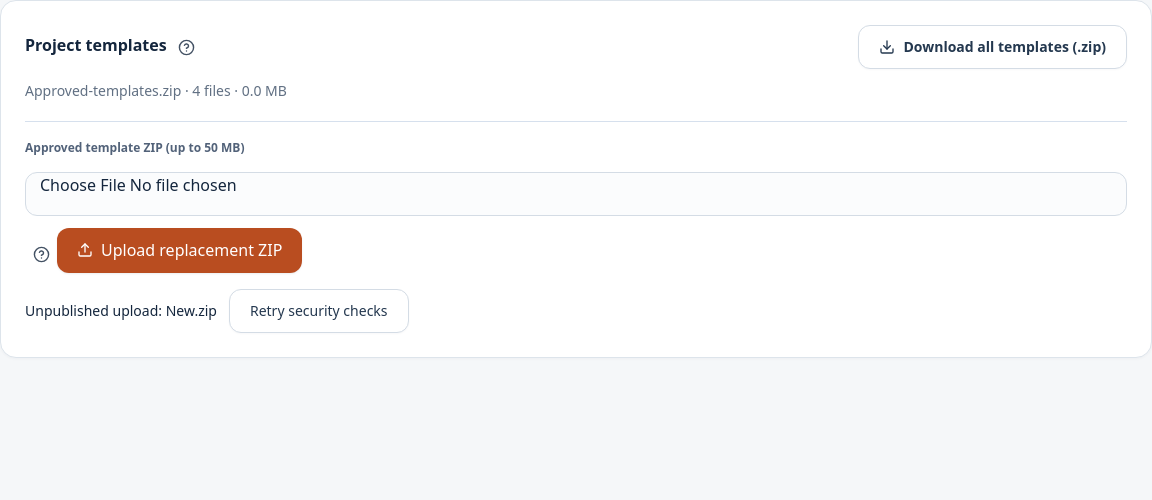
it: project template pack › does not overlap a read retry with publication security checks
Click the button "Retry security checks" at (319, 311), box [229,289,409,333]
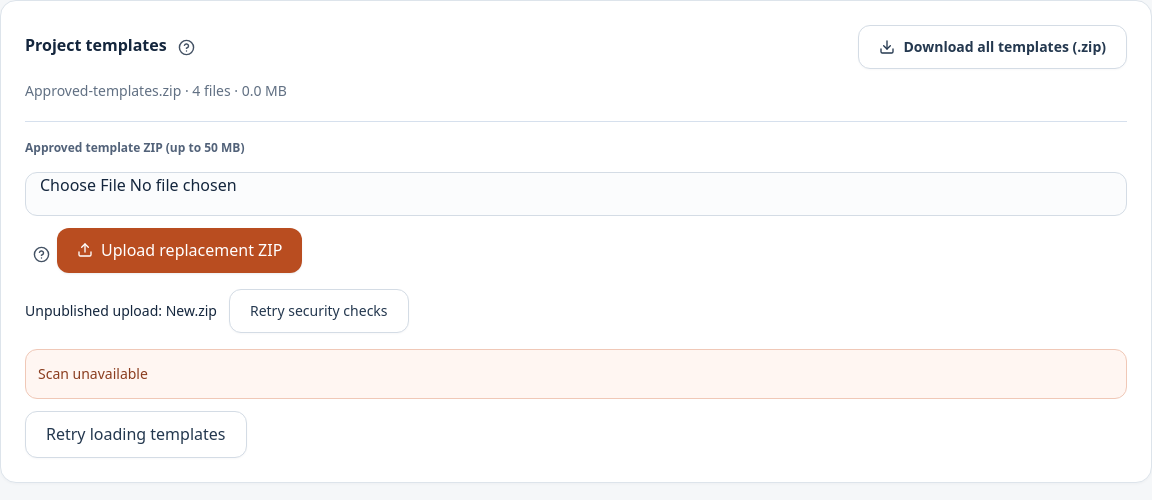
Expected: the message "Scan unavailable" is shown, [25,349,1127,399]
Expected: the button "Retry loading templates" is enabled
Click the button "Retry loading templates" at (136, 434), box [25,411,246,458]
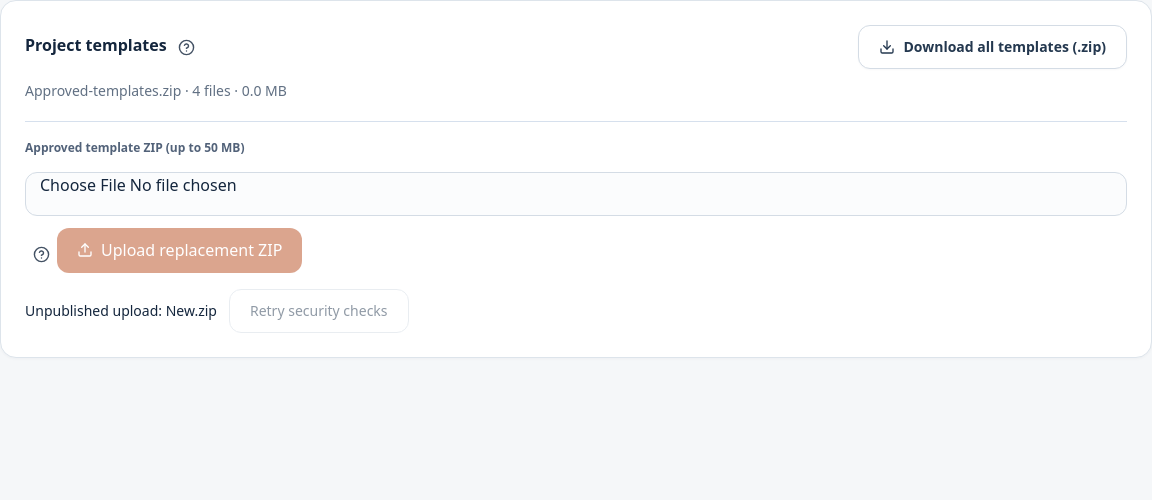
Expected: the button "Retry security checks" is disabled
Click the button "Retry security checks" at (319, 311), box [229,289,409,333]
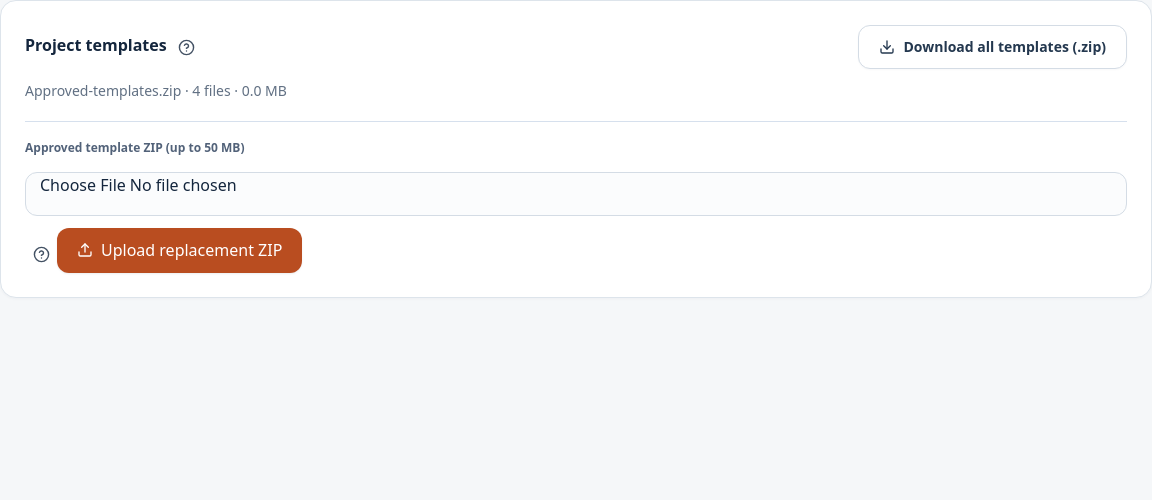
Expected: the link "Download all templates (.zip)" is shown, [858,25,1127,69]
Expected: the button "Retry security checks" is gone
